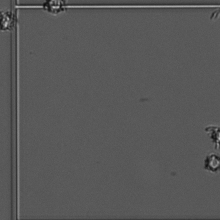Living Cell: (1, 6, 21, 32), (39, 1, 73, 15)
